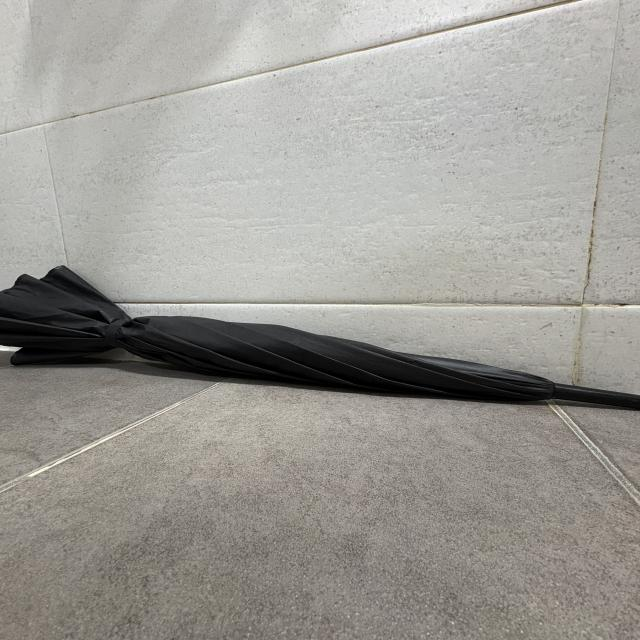umbrella: (0, 263, 640, 413)
